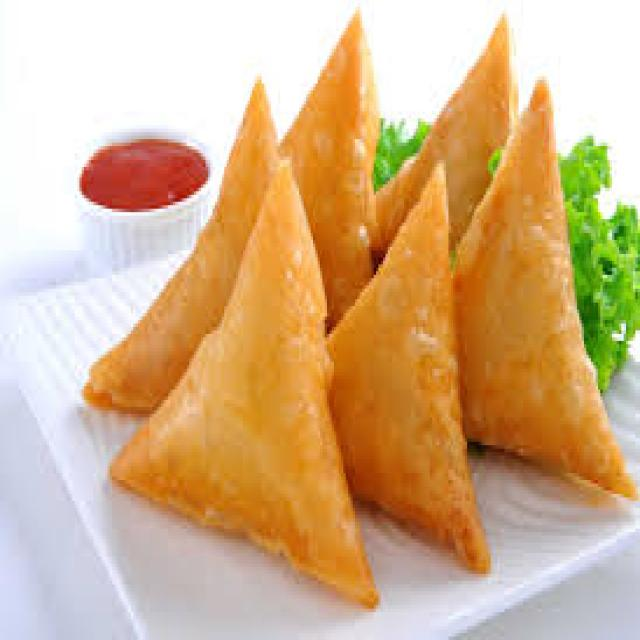SAMOSA: (114, 167, 381, 611), (455, 78, 638, 497), (326, 166, 499, 574), (85, 75, 285, 418), (371, 6, 522, 257), (278, 16, 382, 322)
